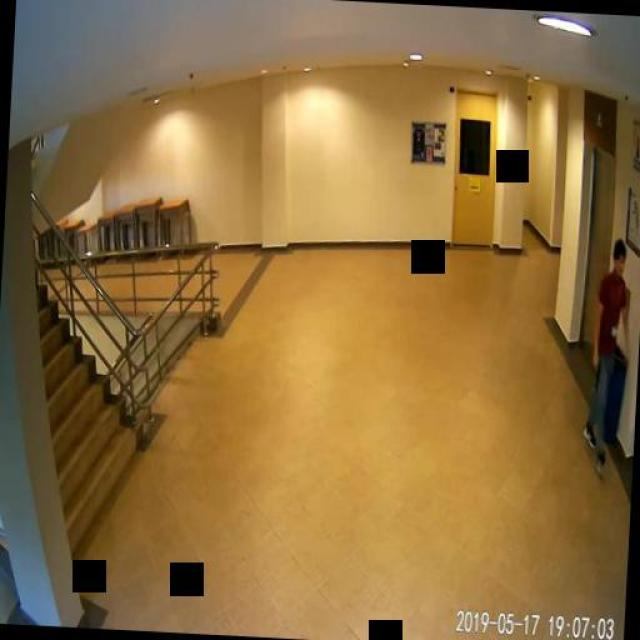gun: (590, 355, 600, 389)
